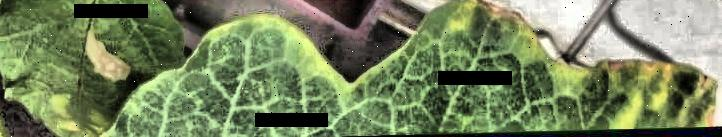Non-critical Stress: (0, 1, 722, 137)
